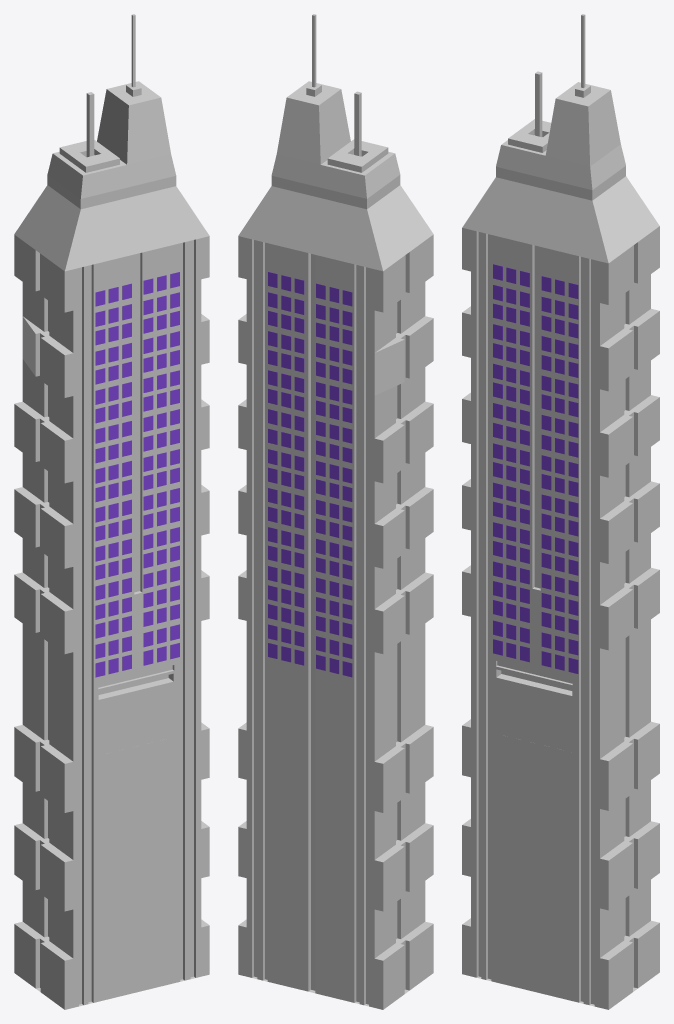
The model's file is Building_V8.fbx.
3 views of the same model, side by side, from view 1: azimuth 30°, elevation 25°; view 2: azimuth 150°, elevation 25°; view 3: azimuth 330°, elevation 25° (orthographic).
Visible parts, largest first — view 1: Cube; view 2: Cube; view 3: Cube.
Part boxes in pixels (x1=…): Cube: x1=14, y1=14, x2=209, y2=1009; Cube: x1=238, y1=14, x2=433, y2=1009; Cube: x1=462, y1=14, x2=659, y2=1009.
Size of the model in its own units: 6465 by 40627 by 3942.
